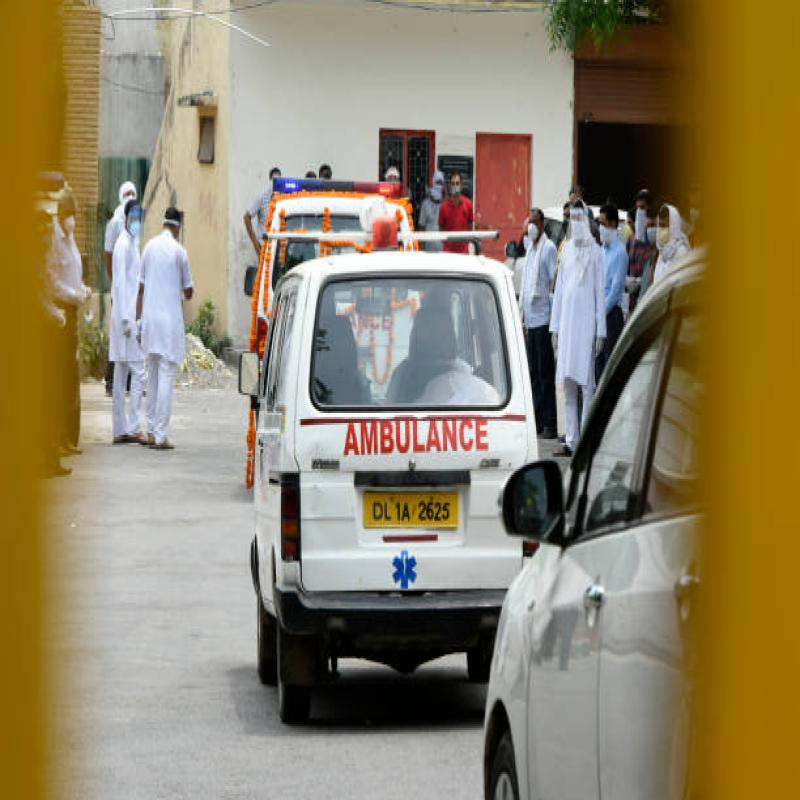ambulance: (235, 219, 549, 728)
